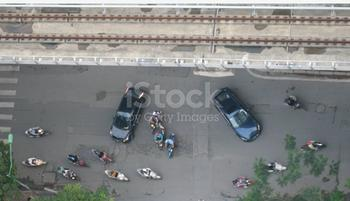car: (210, 80, 266, 157), (106, 82, 151, 147)
motorcycle: (22, 117, 53, 148), (102, 165, 137, 188), (147, 108, 169, 141), (20, 153, 52, 175), (55, 164, 84, 185), (136, 164, 166, 184), (92, 146, 117, 170), (225, 175, 260, 192), (297, 139, 330, 157), (282, 96, 312, 115), (260, 159, 291, 177), (162, 131, 180, 162), (67, 152, 91, 174), (156, 129, 166, 155)
